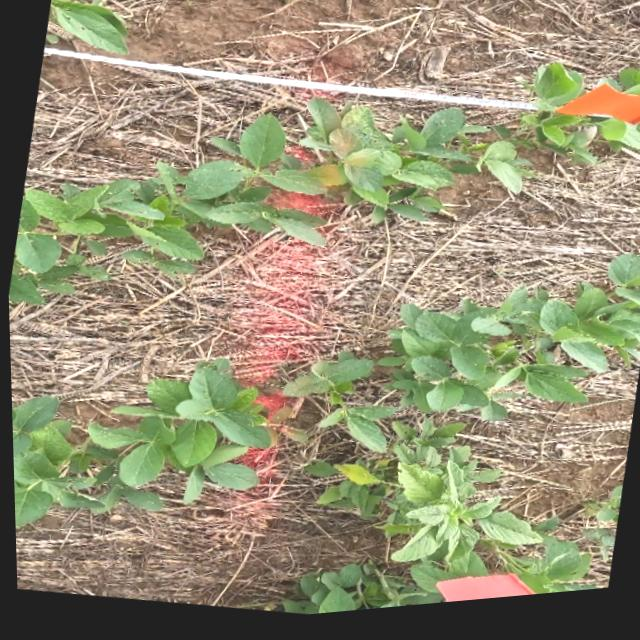caruru_weed: (316, 426, 565, 604)
soy_plant: (7, 102, 527, 303), (375, 265, 640, 428), (9, 362, 271, 525), (519, 72, 640, 169), (280, 358, 391, 457), (280, 568, 445, 619), (500, 547, 599, 604), (50, 0, 127, 56), (580, 496, 618, 570), (617, 78, 640, 105)
